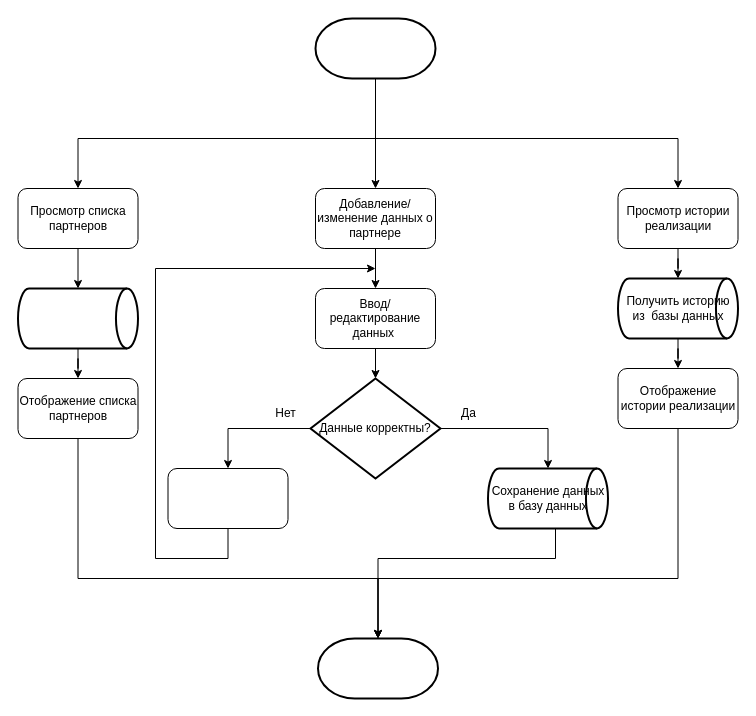
Image size: 756x716. Some labels were removed from this diagram. Here are the shapes that lost their labels. From the top down, the box of each, then its label:
(314, 17, 436, 79): Начало
(16, 287, 138, 349): Получить список из базы данных
(167, 468, 288, 528): Сообщить об ошибке
(316, 637, 438, 699): Конец
